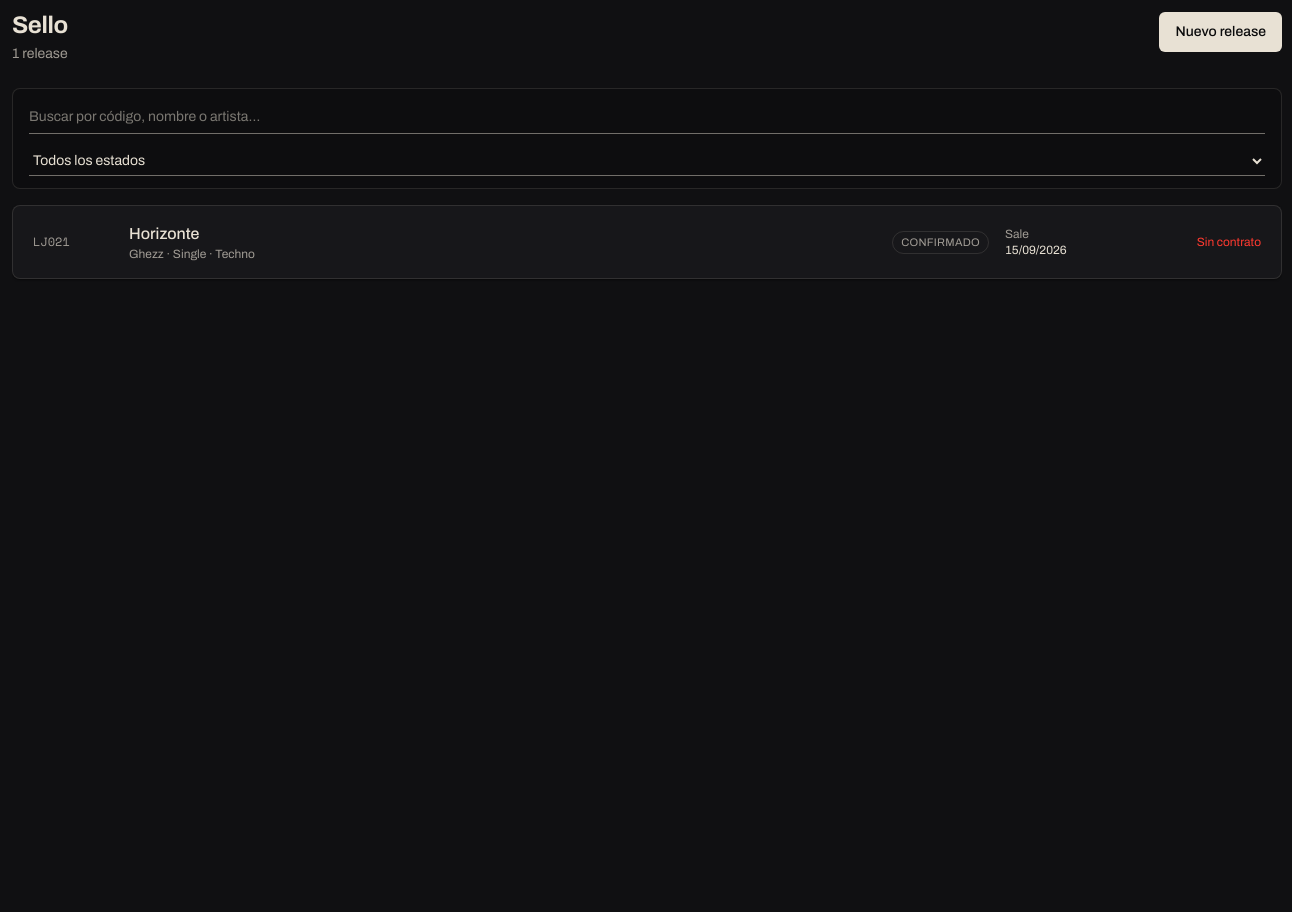
Scenario: los contratos y las apariciones › muestra las apariciones en el orden que las trae el backend
Click the text "Horizonte" at x=164, y=234, box x1=129 y1=225 x2=199 y2=242
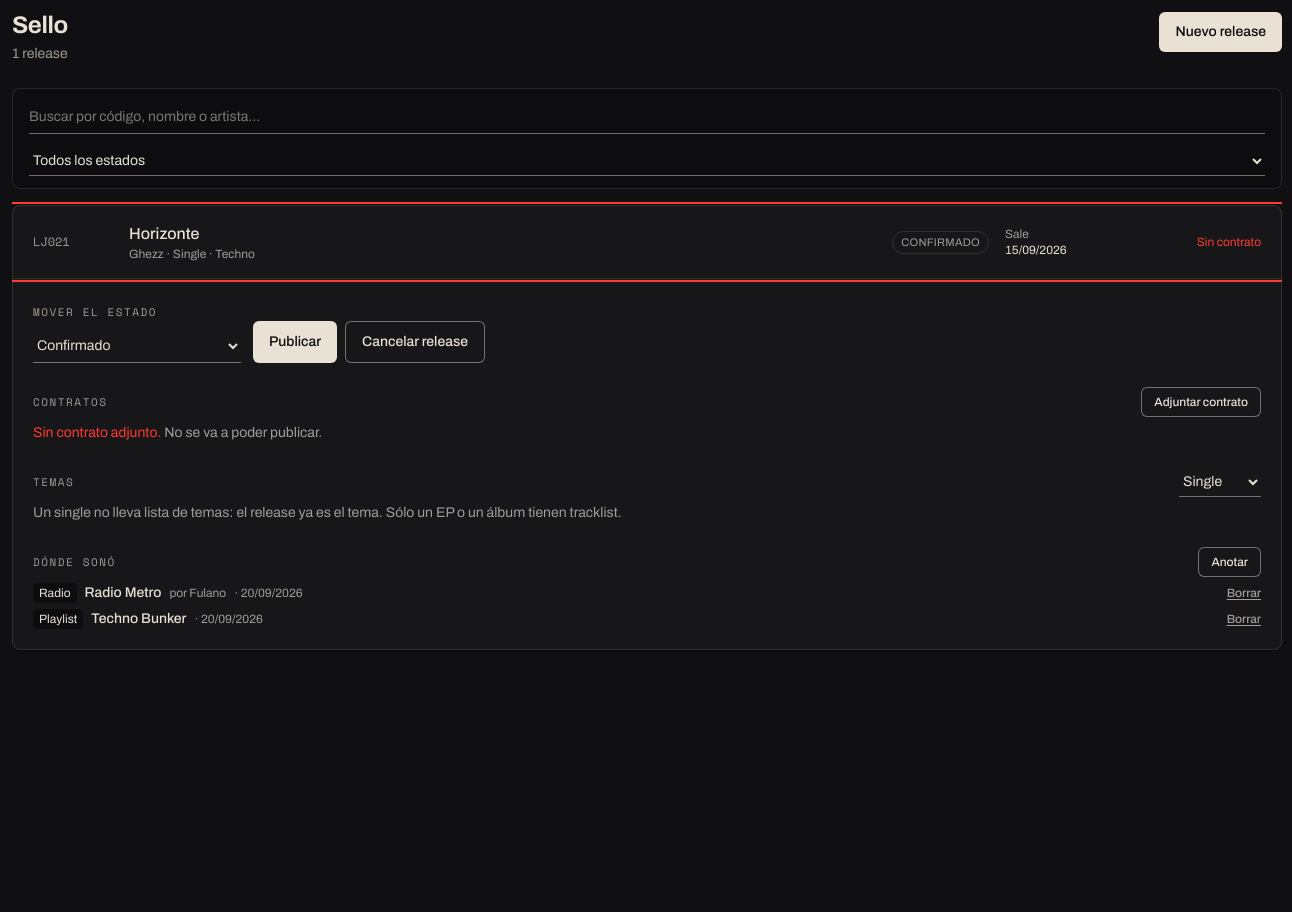
Expected: the text "Radio Metro" is shown, x1=84 y1=583 x2=161 y2=603
